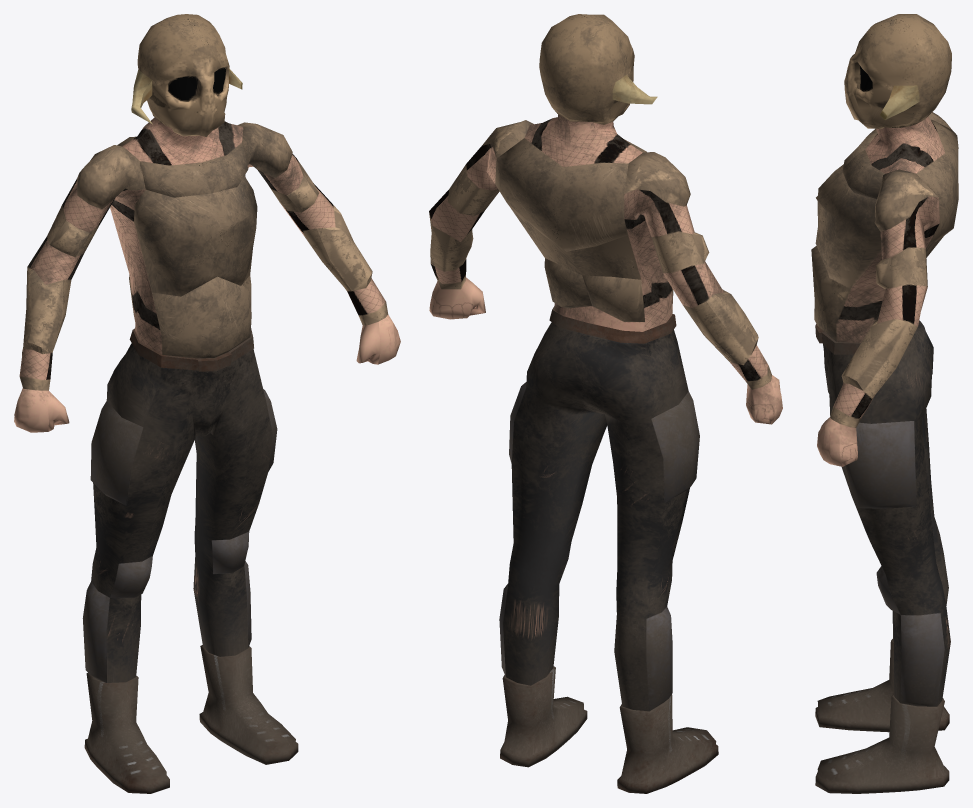
Rendered from Anim_idle_npc1.0046.obj.
3 views of the same model, side by side, from view 1: azimuth 30°, elevation 25°; view 2: azimuth 150°, elevation 25°; view 3: azimuth 270°, elevation 25° (orthographic). The views are drawn at different scales.
Parts seen in each view (by area): view 1: NPC2; view 2: NPC2; view 3: NPC2.
Part boxes in pixels (x1=…): NPC2: x1=14, y1=14, x2=400, y2=793; NPC2: x1=429, y1=14, x2=782, y2=793; NPC2: x1=811, y1=14, x2=958, y2=793.
Bounding box in the file's own units: 5.02 × 9.67 × 1.75.
